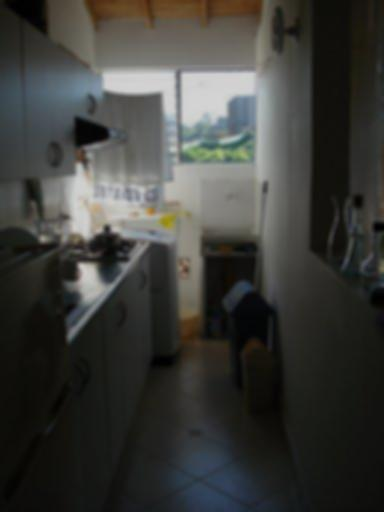Bote de Basura: (221, 276, 279, 398), (241, 337, 280, 418)
Electrodomestico: (4, 244, 63, 511), (150, 230, 184, 365)
Lavamanos: (201, 186, 261, 239)
